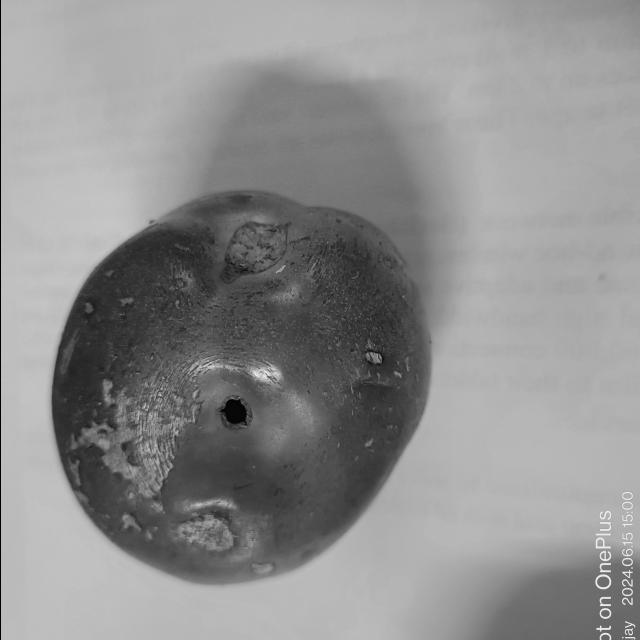fruitworm_bore: (210, 389, 256, 441)
